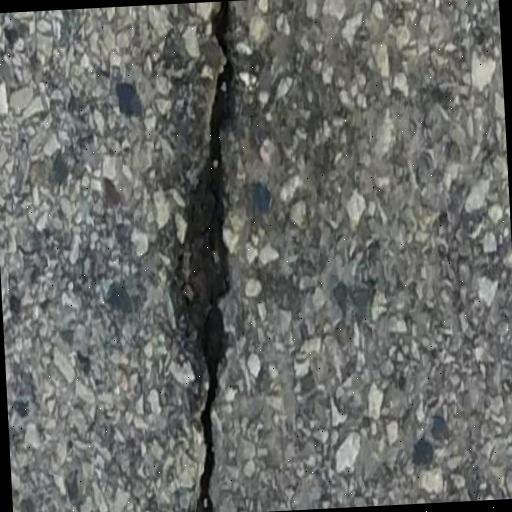spalling: (152, 3, 244, 512)
